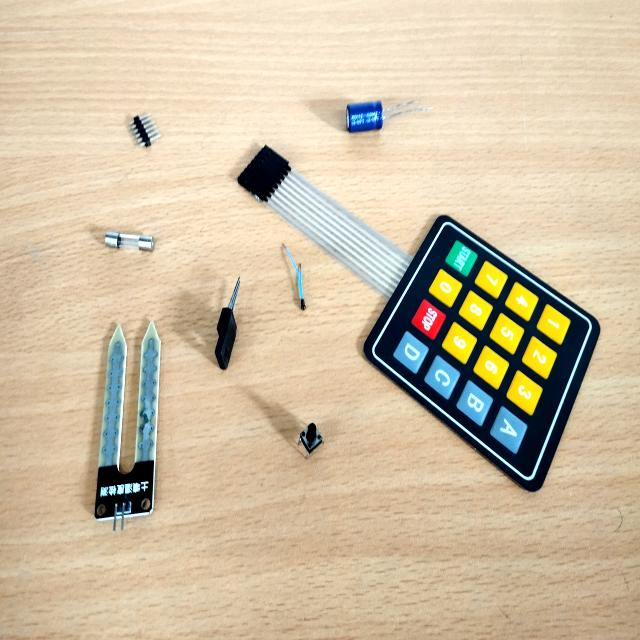capacitor: (346, 102, 383, 133)
